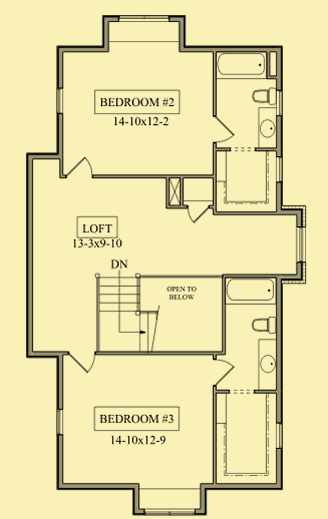door: (64, 350, 97, 376), (67, 156, 98, 179), (210, 114, 234, 143), (215, 355, 236, 387), (185, 206, 211, 225)
large_sink: (250, 82, 278, 107), (250, 314, 276, 336)
small_sink: (258, 336, 278, 389), (256, 106, 277, 149)
stairs: (93, 273, 161, 353)
tub: (217, 50, 268, 82), (225, 275, 276, 307)
window: (114, 12, 173, 24), (141, 507, 198, 517), (294, 225, 308, 265), (55, 85, 67, 117), (55, 406, 65, 436), (275, 153, 284, 186), (274, 422, 284, 449)
